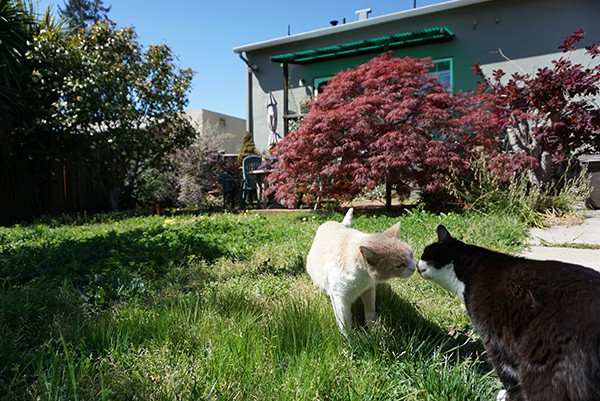cat: (419, 224, 600, 401), (306, 209, 418, 345)
